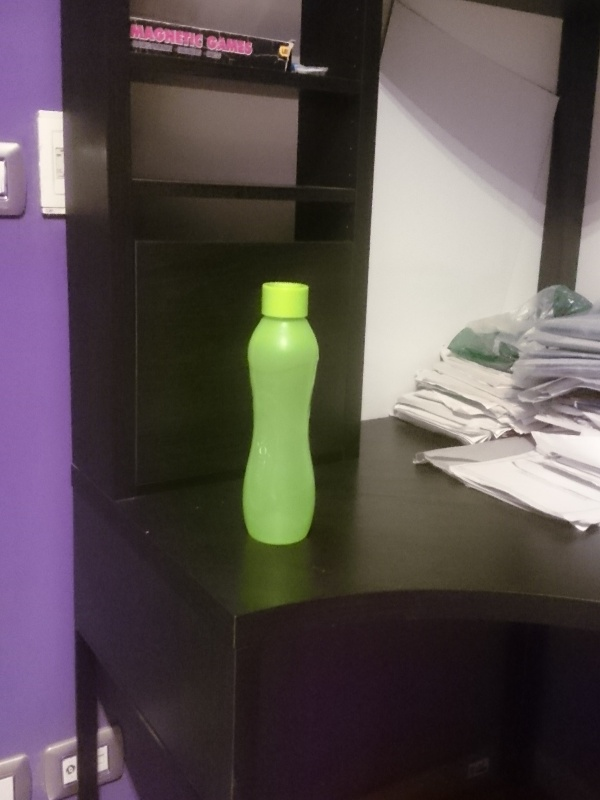my bottle: (241, 281, 319, 549)
